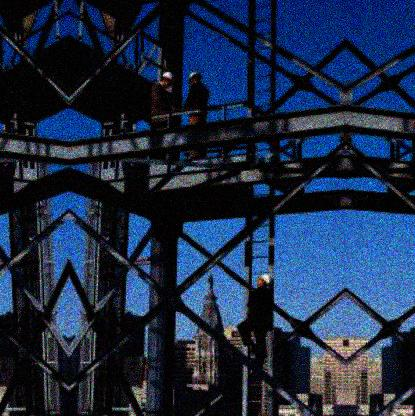helmet: (254, 274, 272, 289), (161, 71, 175, 90), (186, 71, 202, 85)
